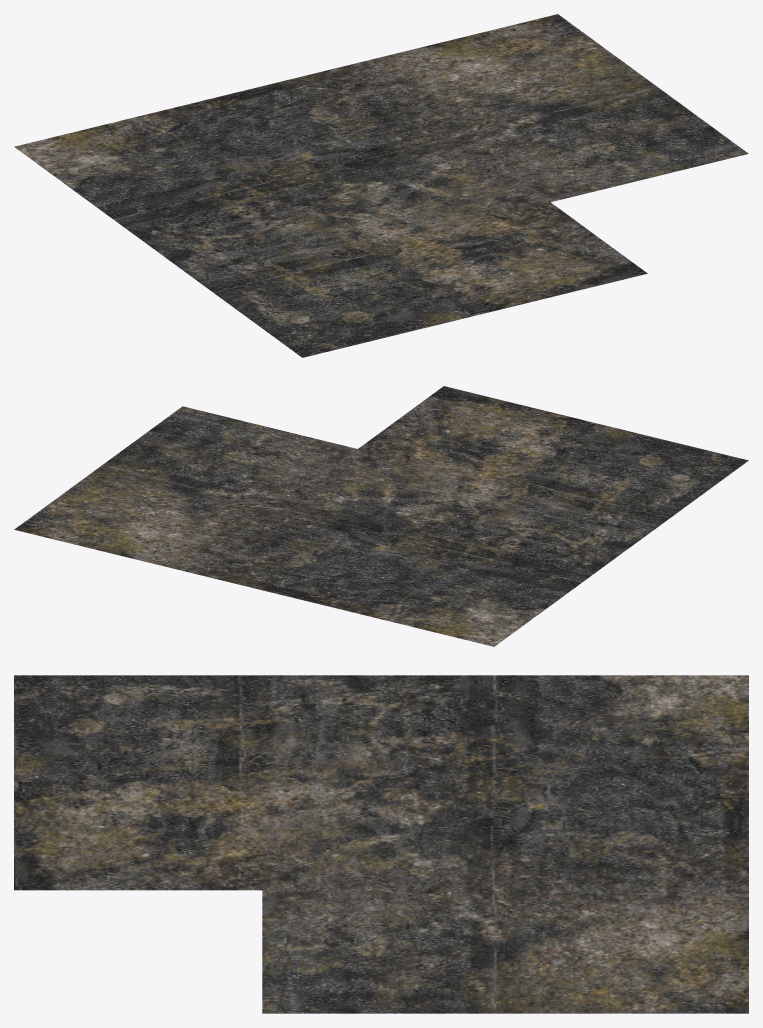
The model's file is Roof_01.FBX.
3 views of the same model, one above another, from view 1: azimuth 30°, elevation 25°; view 2: azimuth 150°, elevation 25°; view 3: azimuth 270°, elevation 25° (orthographic). The views are drawn at different scales.
Visible parts, largest first — view 1: Roof_01; view 2: Roof_01; view 3: Roof_01.
Boxes of the visible parts, <box> form: Roof_01: <box>14,14,748,357</box>; Roof_01: <box>14,386,748,646</box>; Roof_01: <box>14,675,748,1013</box>.
Bounding box in the file's own units: 1748 × 9.83e-14 × 1606.
